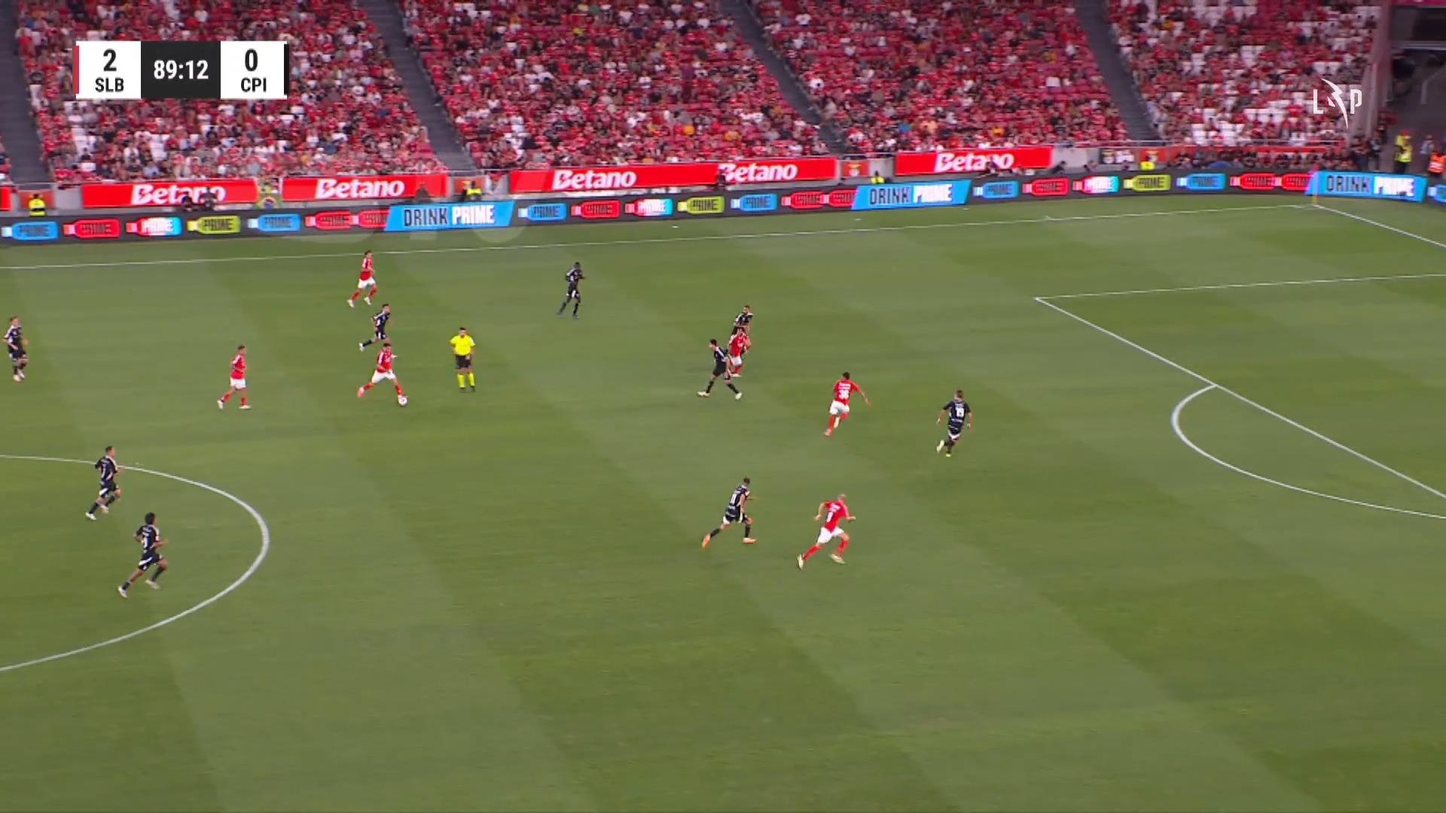player: (795, 492, 856, 571), (117, 511, 169, 598), (700, 476, 758, 548), (355, 340, 408, 406), (822, 370, 870, 437), (84, 444, 123, 520), (696, 337, 743, 400), (935, 388, 973, 457), (216, 343, 251, 410), (346, 249, 378, 307), (2, 315, 29, 381), (358, 303, 392, 352), (556, 260, 584, 319), (724, 327, 752, 377), (731, 303, 753, 341)
referee: (449, 326, 477, 391)
